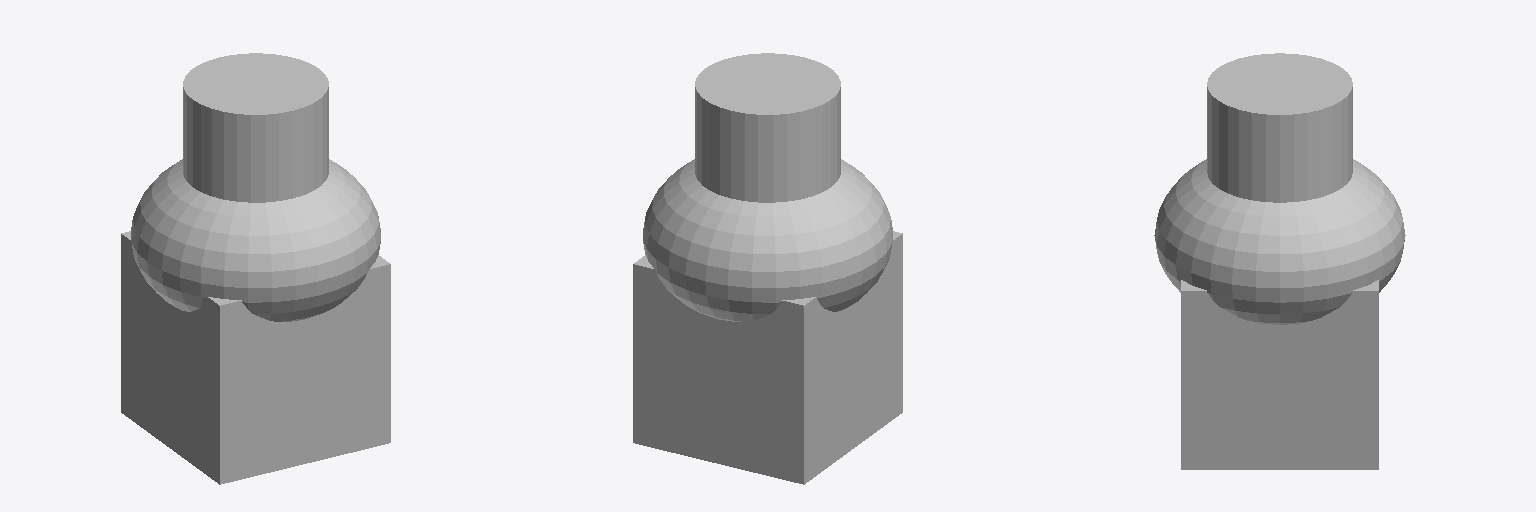
Rendered from paredes.obj.
3 views of the same model, side by side, from view 1: azimuth 30°, elevation 25°; view 2: azimuth 150°, elevation 25°; view 3: azimuth 270°, elevation 25° (orthographic).
Parts seen in each view (by area): view 1: Cube_Cube.001, Sphere, Cylinder; view 2: Cube_Cube.001, Sphere, Cylinder; view 3: Cube_Cube.001, Sphere, Cylinder.
Boxes of the visible parts, x1=… form: Cube_Cube.001: x1=121, y1=231, x2=390, y2=484; Sphere: x1=131, y1=159, x2=380, y2=321; Cylinder: x1=183, y1=53, x2=328, y2=202; Cube_Cube.001: x1=633, y1=231, x2=902, y2=484; Sphere: x1=643, y1=159, x2=892, y2=321; Cylinder: x1=695, y1=53, x2=840, y2=202; Cube_Cube.001: x1=1181, y1=280, x2=1378, y2=469; Sphere: x1=1154, y1=159, x2=1405, y2=324; Cylinder: x1=1207, y1=53, x2=1352, y2=202.
Bounding box in the file's own units: 16.37 × 24.71 × 16.37.